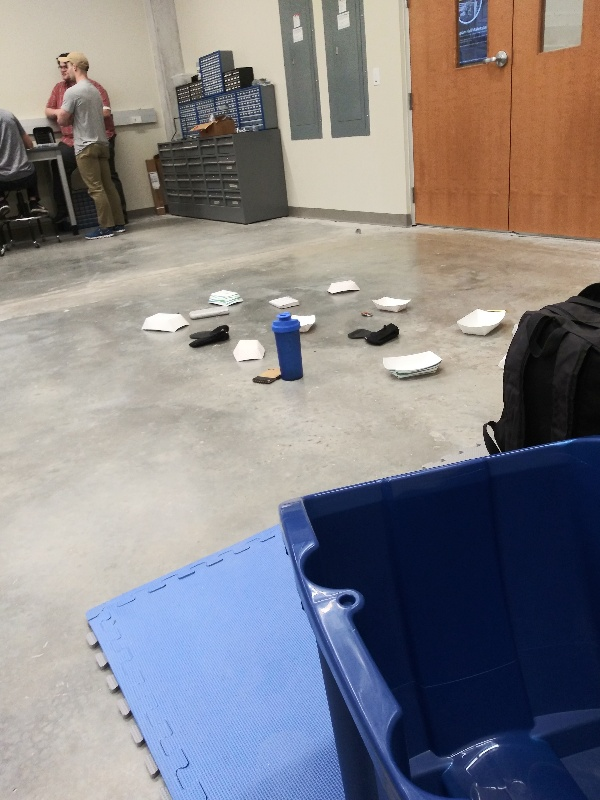plate: (380, 344, 447, 386), (450, 305, 512, 339), (225, 336, 267, 366), (138, 311, 190, 335), (368, 291, 414, 315), (290, 307, 318, 339), (204, 287, 245, 307), (324, 278, 361, 297)
